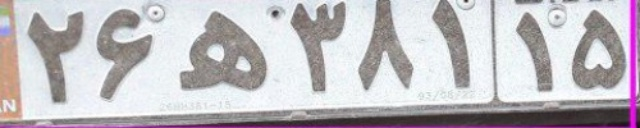1: (425, 0, 469, 88), (512, 11, 554, 91)
2: (25, 8, 85, 103)
3: (287, 0, 347, 95)
5: (570, 8, 628, 89)
6: (92, 7, 156, 101)
8: (354, 0, 413, 90)
he: (176, 10, 269, 94)
